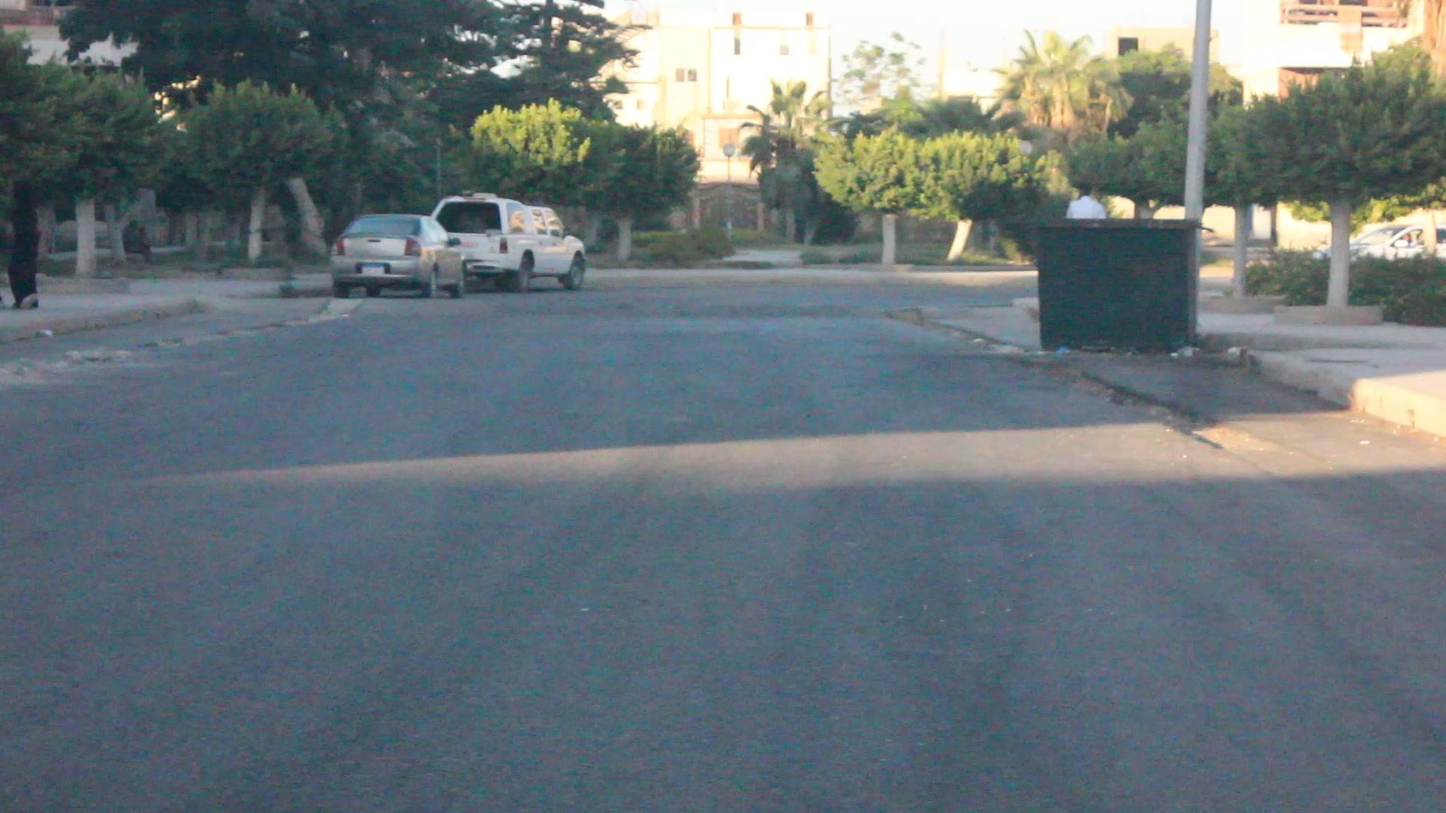Bump: (196, 298, 932, 326)
